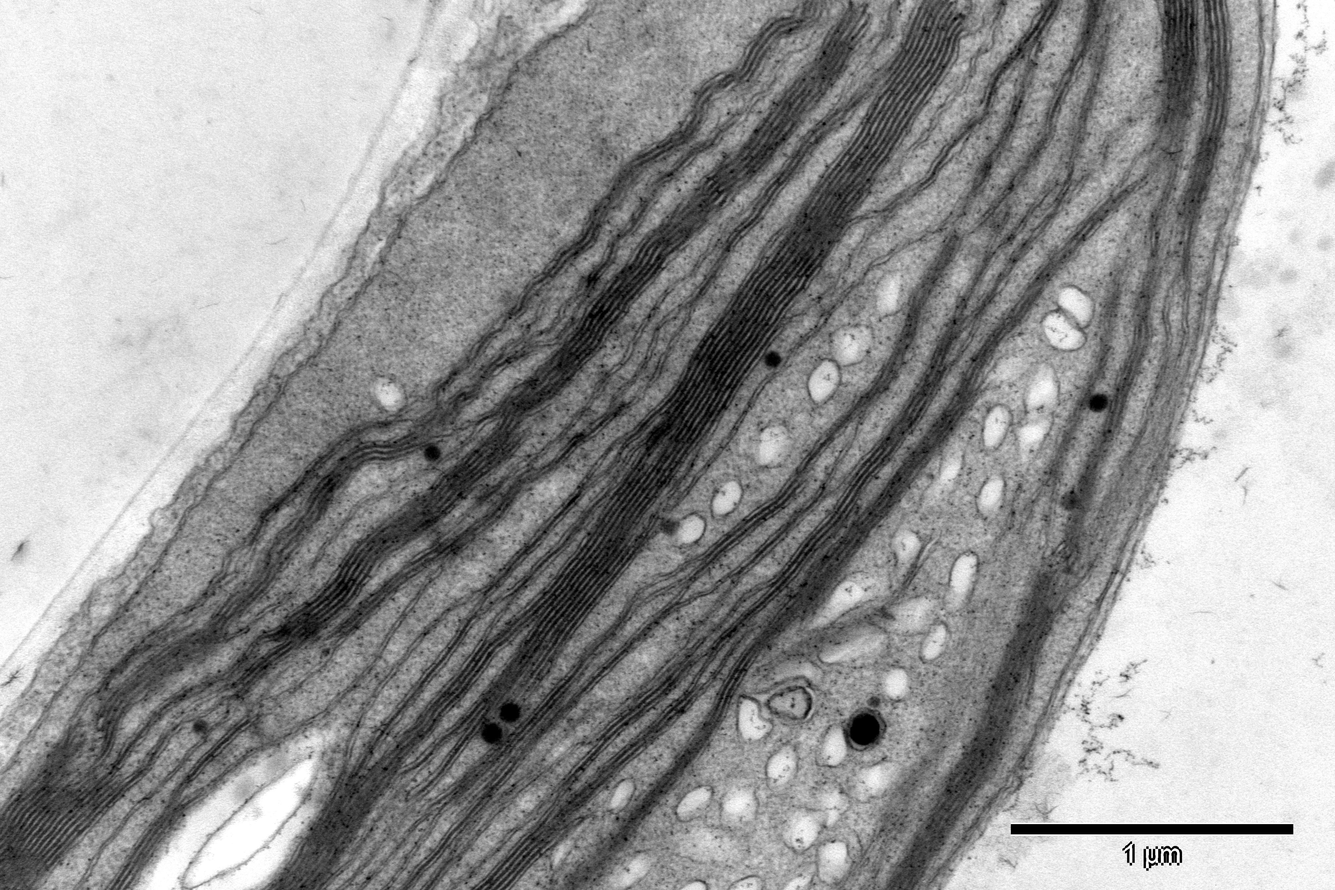granum: (484, 1, 876, 427), (639, 0, 978, 484), (777, 181, 1139, 627), (92, 427, 431, 734), (252, 585, 548, 890), (225, 420, 537, 703), (540, 1, 831, 279), (873, 542, 1079, 890), (553, 602, 799, 889), (451, 452, 673, 752), (763, 309, 974, 596), (330, 453, 552, 644), (1067, 249, 1176, 513), (421, 669, 594, 819), (545, 675, 710, 830), (0, 709, 137, 890), (841, 231, 967, 424), (741, 55, 877, 224), (408, 326, 541, 445), (1171, 0, 1236, 240), (694, 457, 820, 573), (580, 643, 705, 758), (1141, 0, 1201, 180), (101, 795, 191, 888), (468, 813, 571, 889), (1001, 0, 1067, 68)
